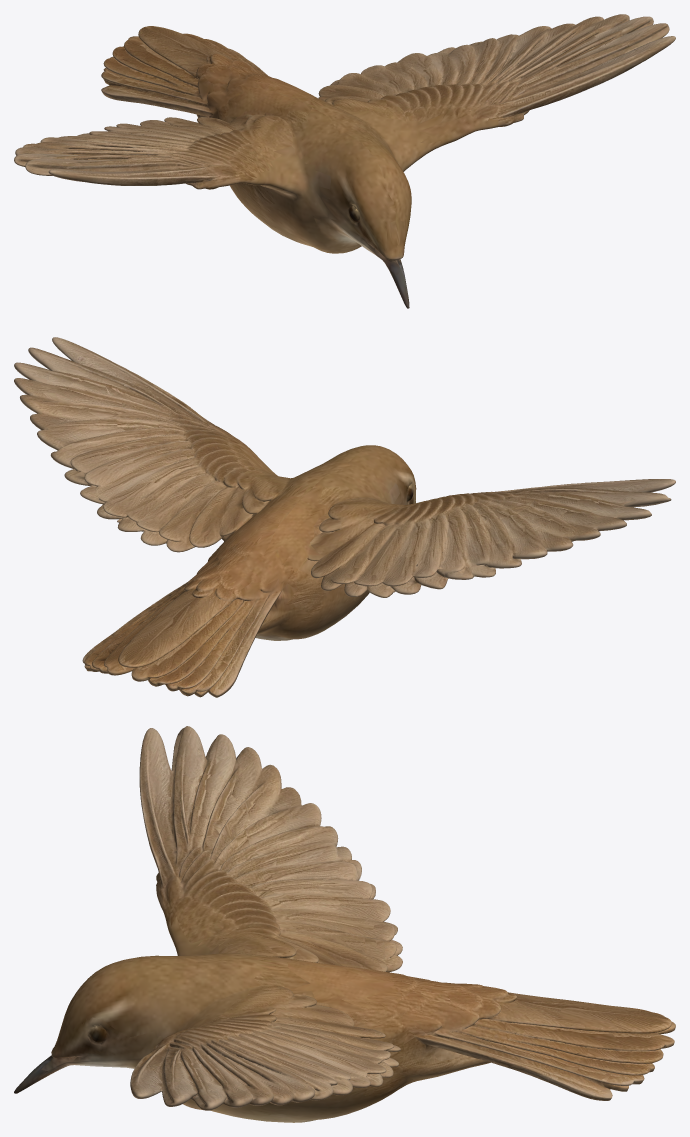
The model's file is Locustella_luscinioides.glb.
3 renders of one model, top to bottom at view 1: azimuth 30°, elevation 25°; view 2: azimuth 150°, elevation 25°; view 3: azimuth 270°, elevation 25°, orthographic. The views are drawn at different scales.
Parts seen in each view (by area): view 1: orient; view 2: orient; view 3: orient.
Part boxes in pixels (left/top/right/bottom): orient: left=14, top=14, right=675, bottom=308; orient: left=14, top=337, right=675, bottom=697; orient: left=14, top=726, right=675, bottom=1122.
Bounding box in the file's own units: 0.5001 × 0.1355 × 0.3854.
1 material, 1 textured.
